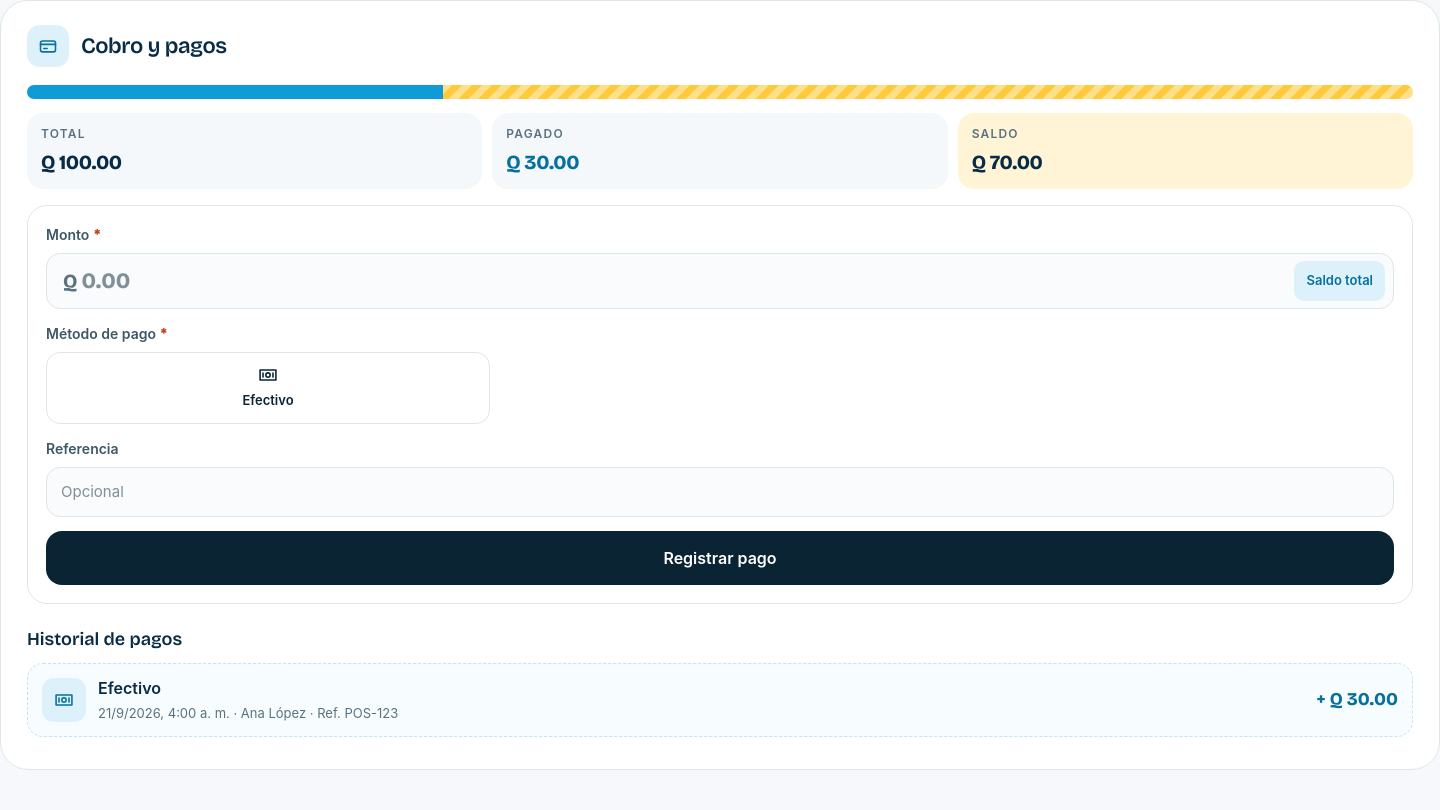
it: PaymentPanel › registra un pago y refresca saldo, historial y detalle
Expected: the text "21/9/2026, 4:00 a. m. · Ana López · Ref. POS-123" is shown, [98,704,398,720]
Type "20" into the field labelled "Monto" at (688, 281), box [81,254,1294,308]
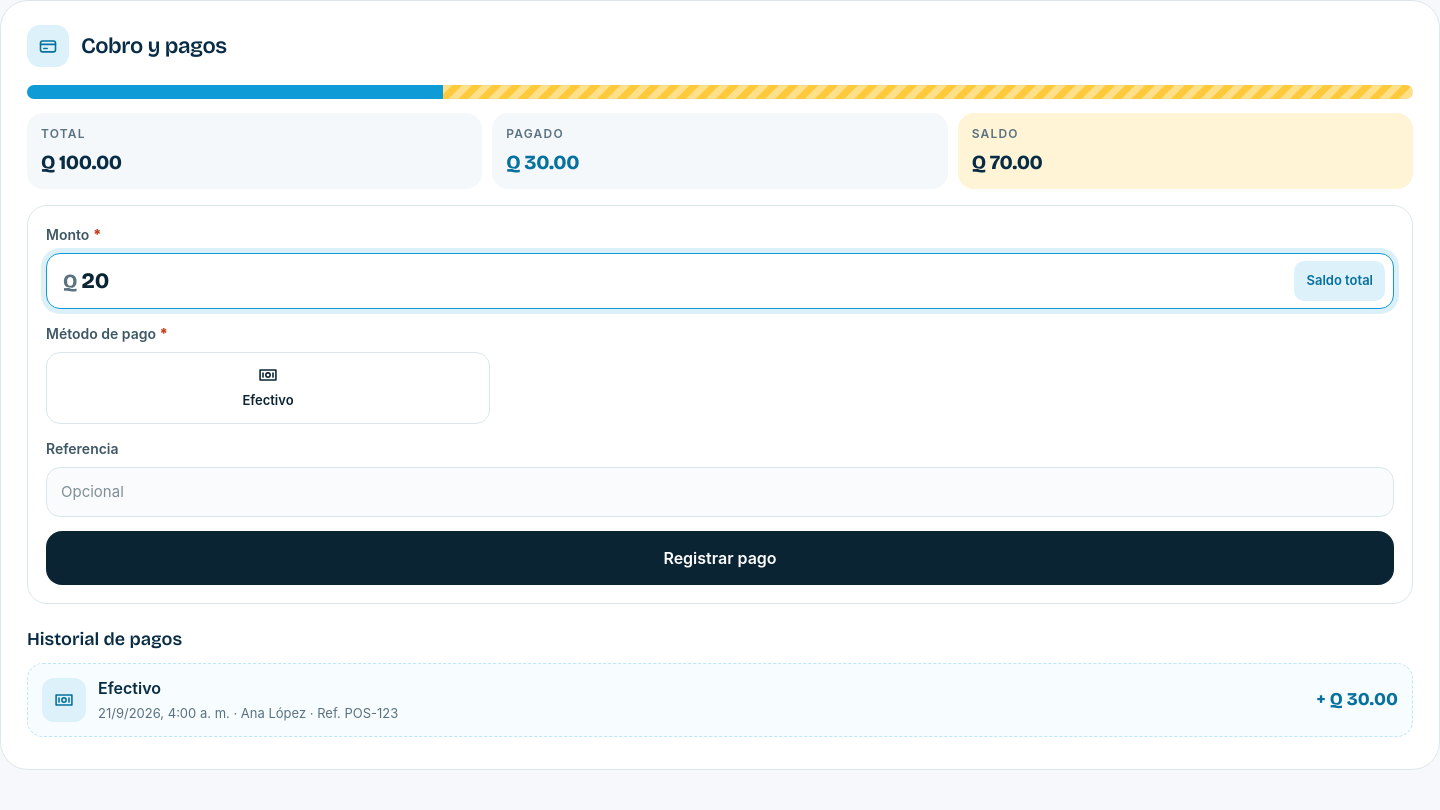
Click the radio button at (268, 388), box [46,352,490,424]
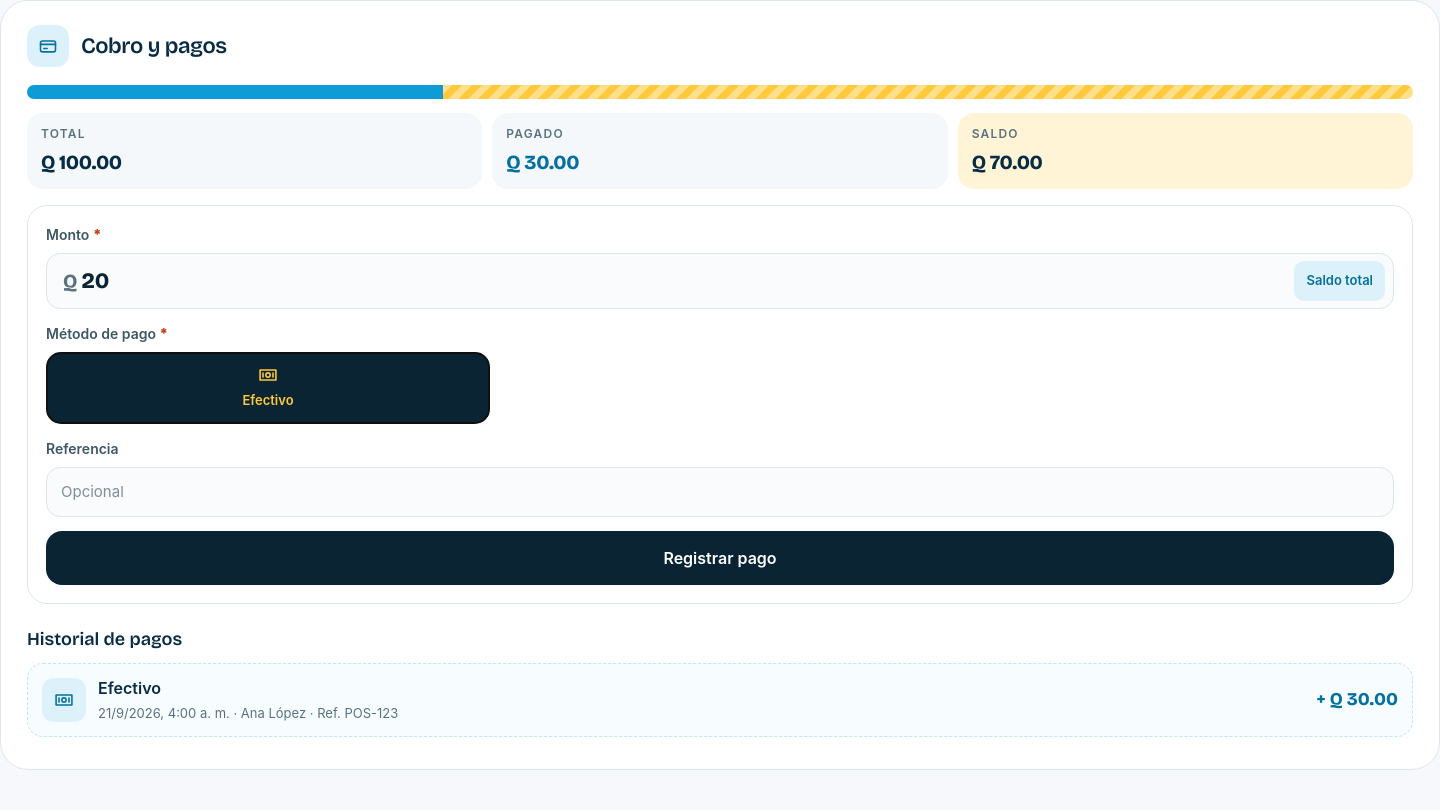
Type " TRANS-9 " into the field labelled "Referencia" at (720, 492), box [46,466,1394,516]
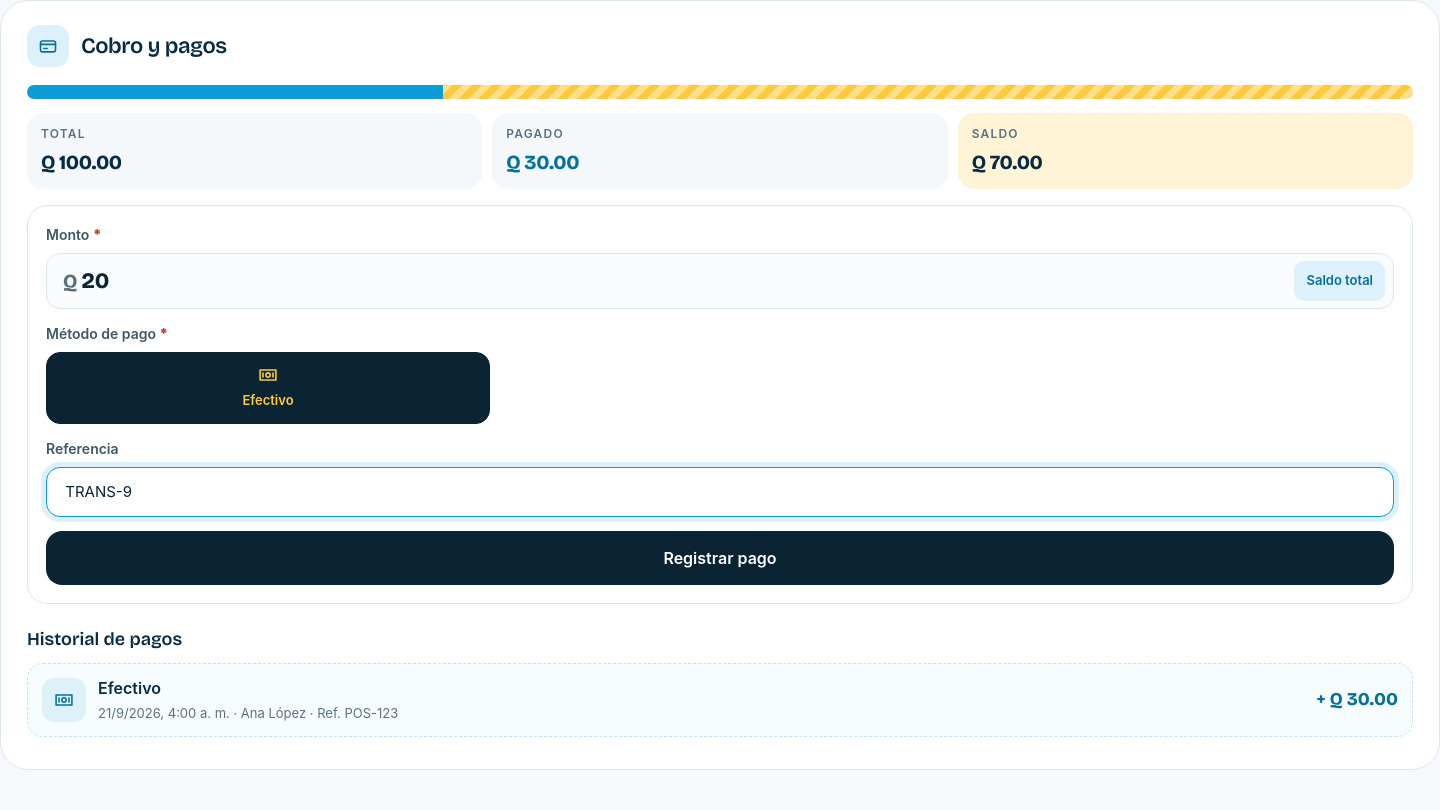
Click the button "Registrar pago" at (720, 558), box [46,530,1394,584]
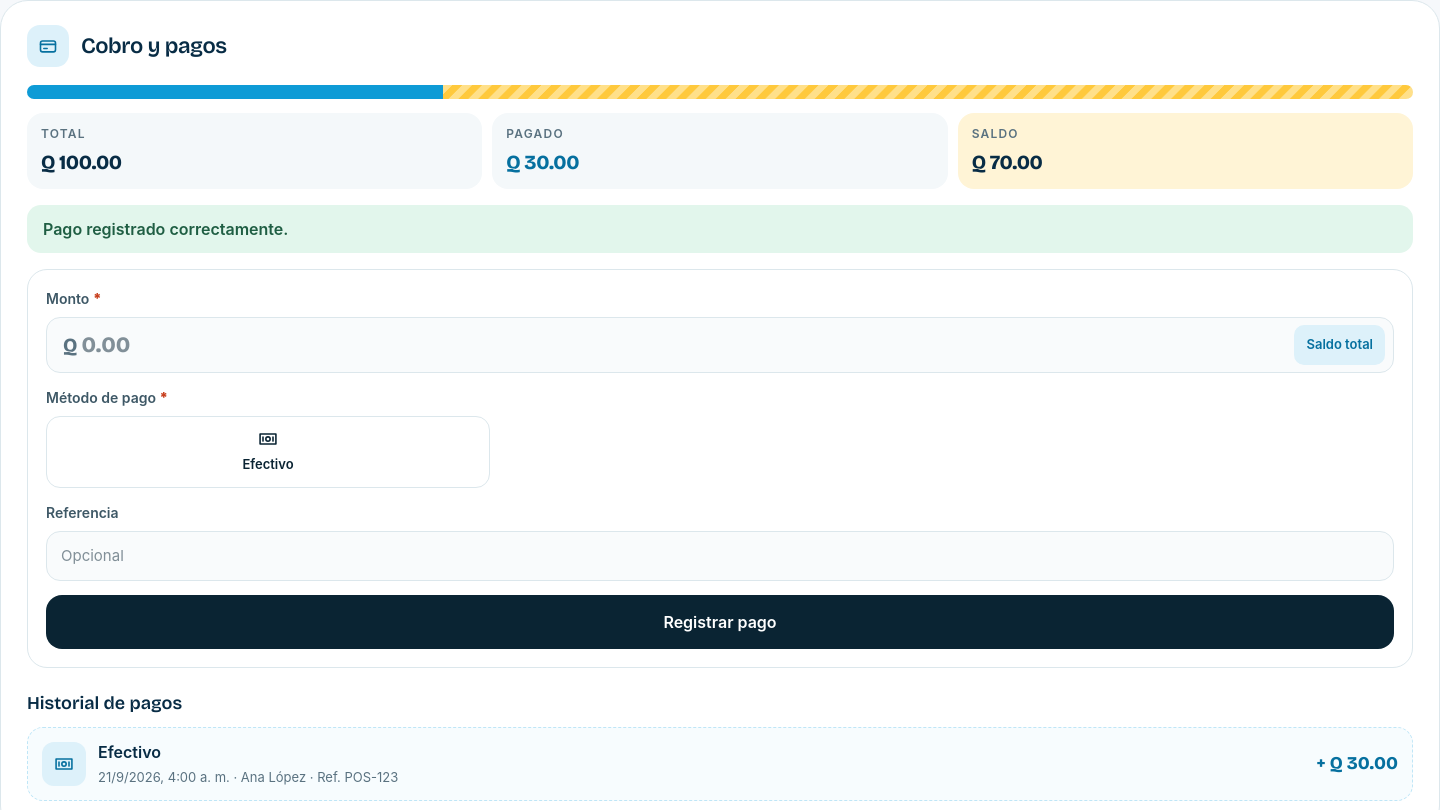
Now the text "Pago registrado correctamente." is shown, box [27,205,1413,253]
